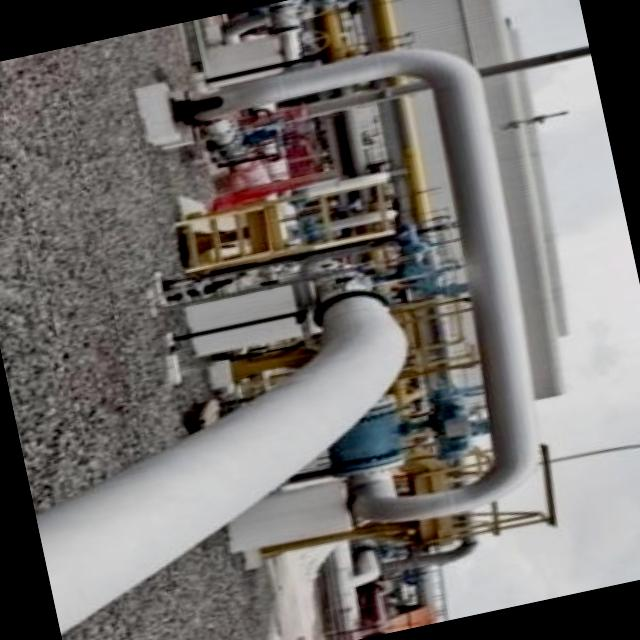gas: (182, 47, 536, 522), (34, 277, 405, 636)
